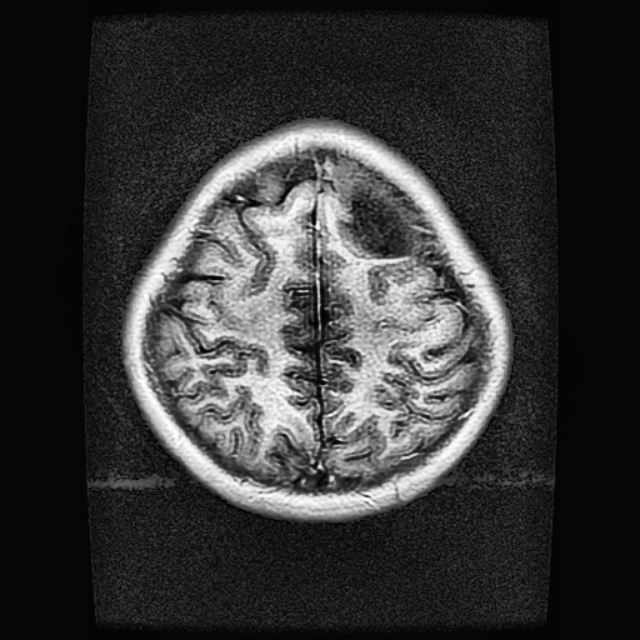Glioma: (337, 168, 423, 255)
